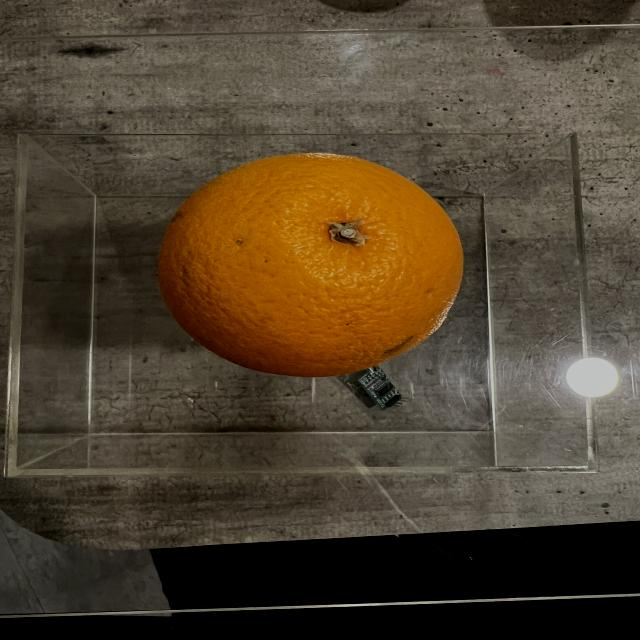navel orange: (153, 151, 474, 381)
